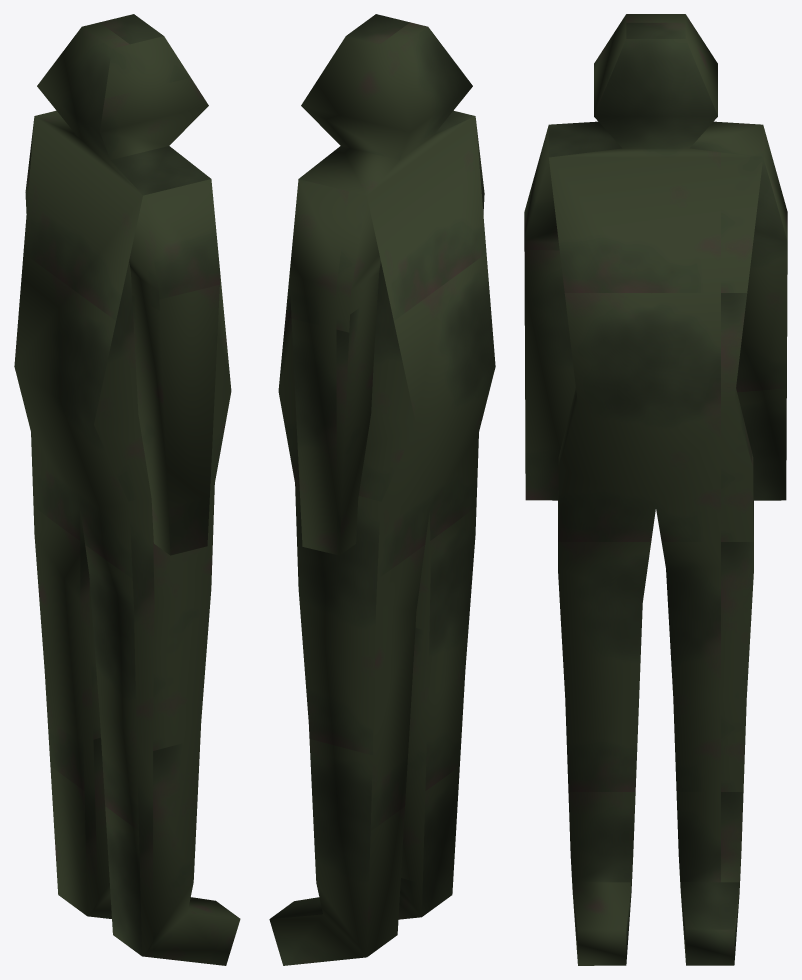
File: Zombie_Body_LOD_B.obj
The picture shows the model from 3 angles, left to right: view 1: azimuth 30°, elevation 25°; view 2: azimuth 150°, elevation 25°; view 3: azimuth 270°, elevation 25°; orthographic projection.
Size of the model in its own units: 0.3092 by 1.86 by 0.4873.
Materials: 1 (1 with a texture image).
